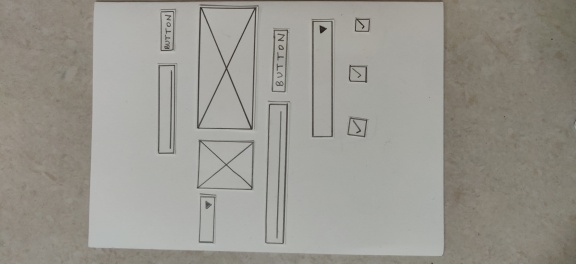button: (267, 26, 294, 96), (157, 6, 179, 55)
checkbox: (344, 114, 369, 142), (344, 63, 370, 86), (349, 15, 374, 38)
dropdown: (308, 16, 337, 140), (196, 191, 219, 246)
img: (193, 3, 260, 132), (193, 137, 259, 192)
text: (262, 101, 293, 247), (153, 60, 180, 157)
